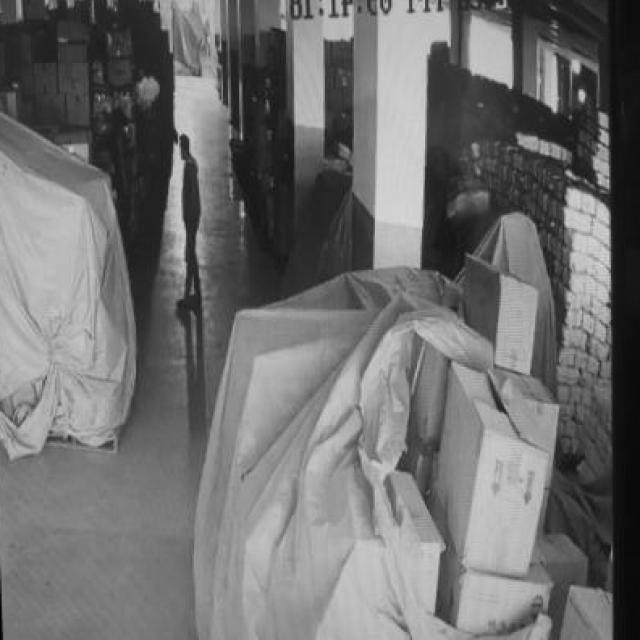fire: (134, 72, 163, 116)
